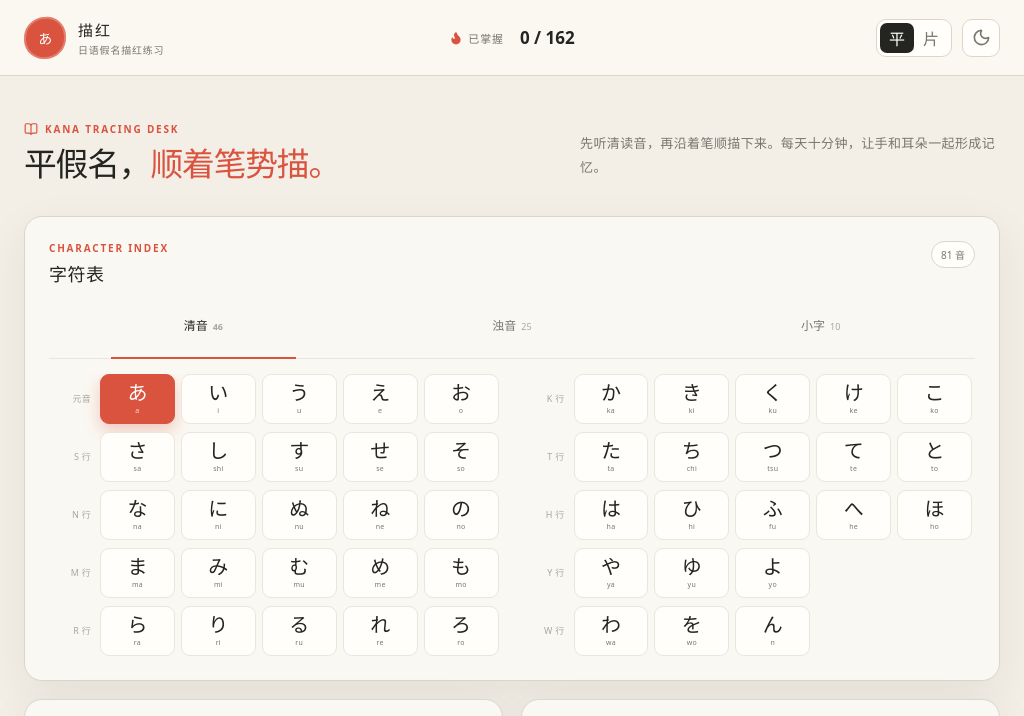
Test: 描红 app › switches script while keeping the matching sound
What coordinates should you click on to do the following:
click the button with aria-label "选择 き ki"
I would click on:
 (692, 399)
Its box is left=654, top=374, right=729, bottom=424.
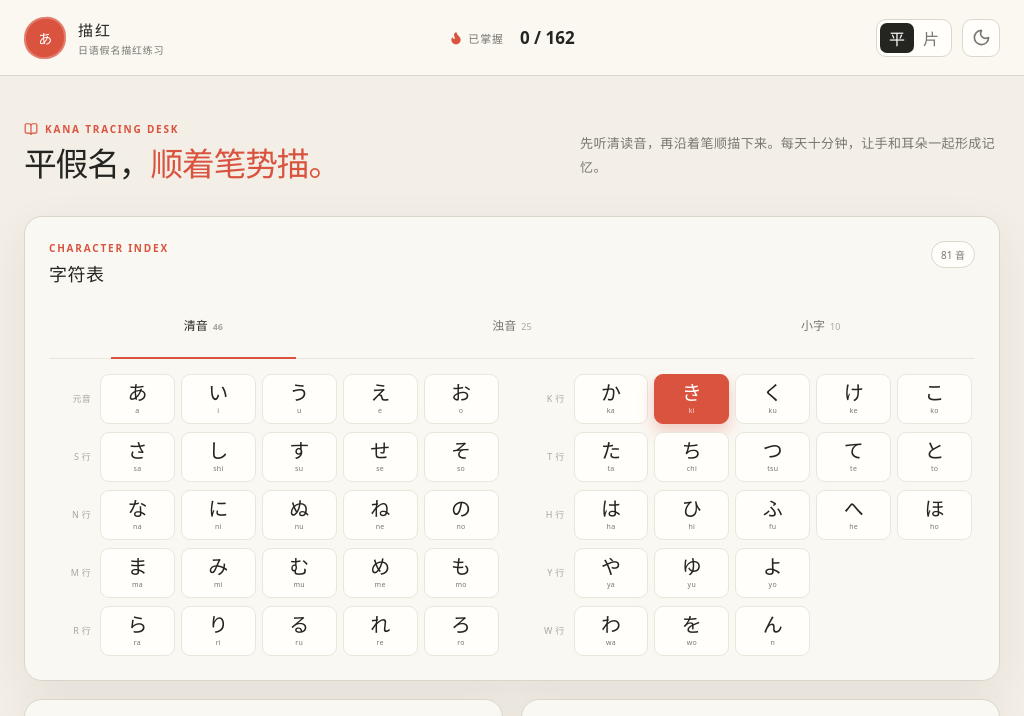
What coordinates should you click on to do the following:
click the button named "片假名"
I would click on:
 (931, 38)
Its box is left=914, top=22, right=948, bottom=52.
(page scrolled)
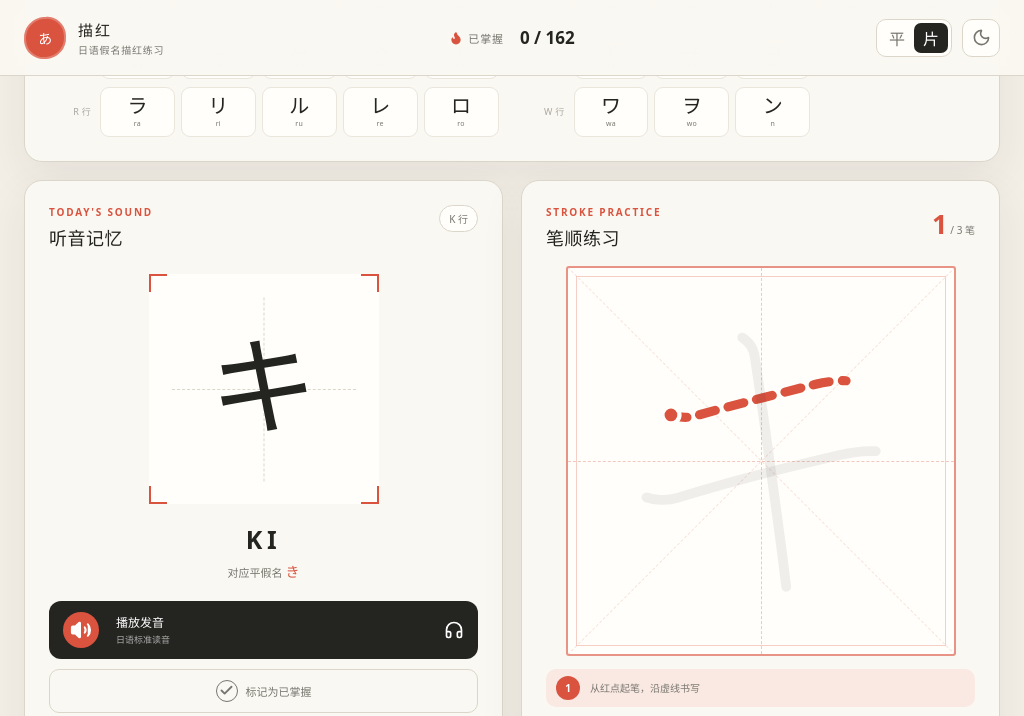
Now the text with test id "focus-character" reads "キ", box left=210, top=311, right=318, bottom=458
